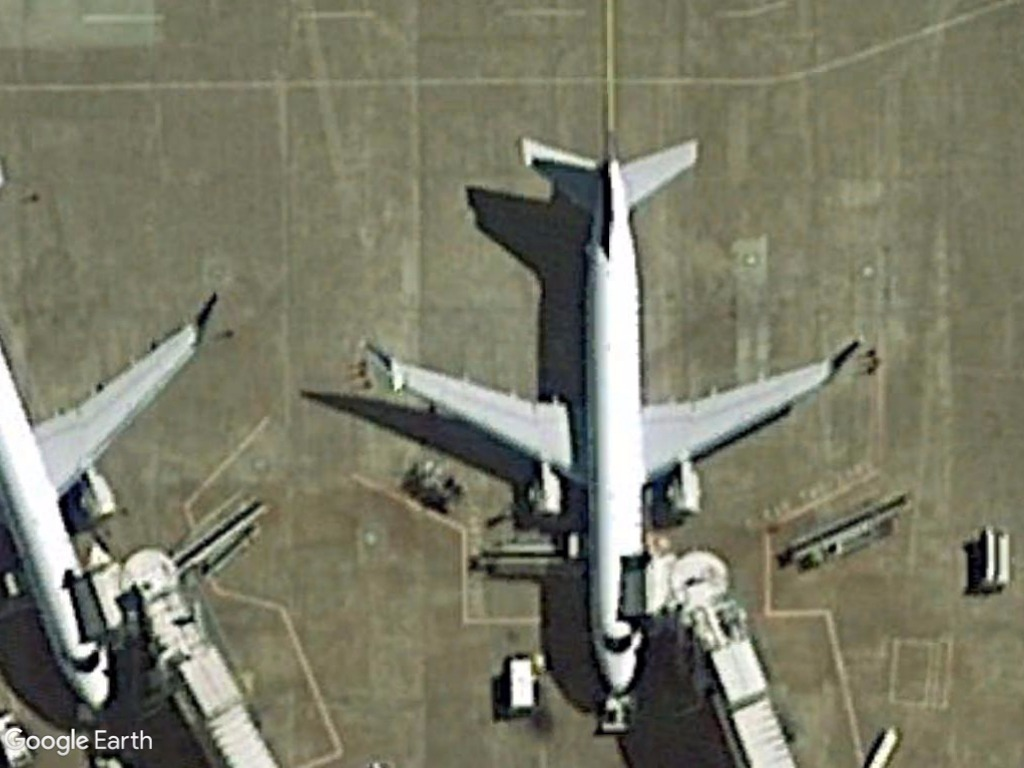airliner: (357, 129, 862, 703)
